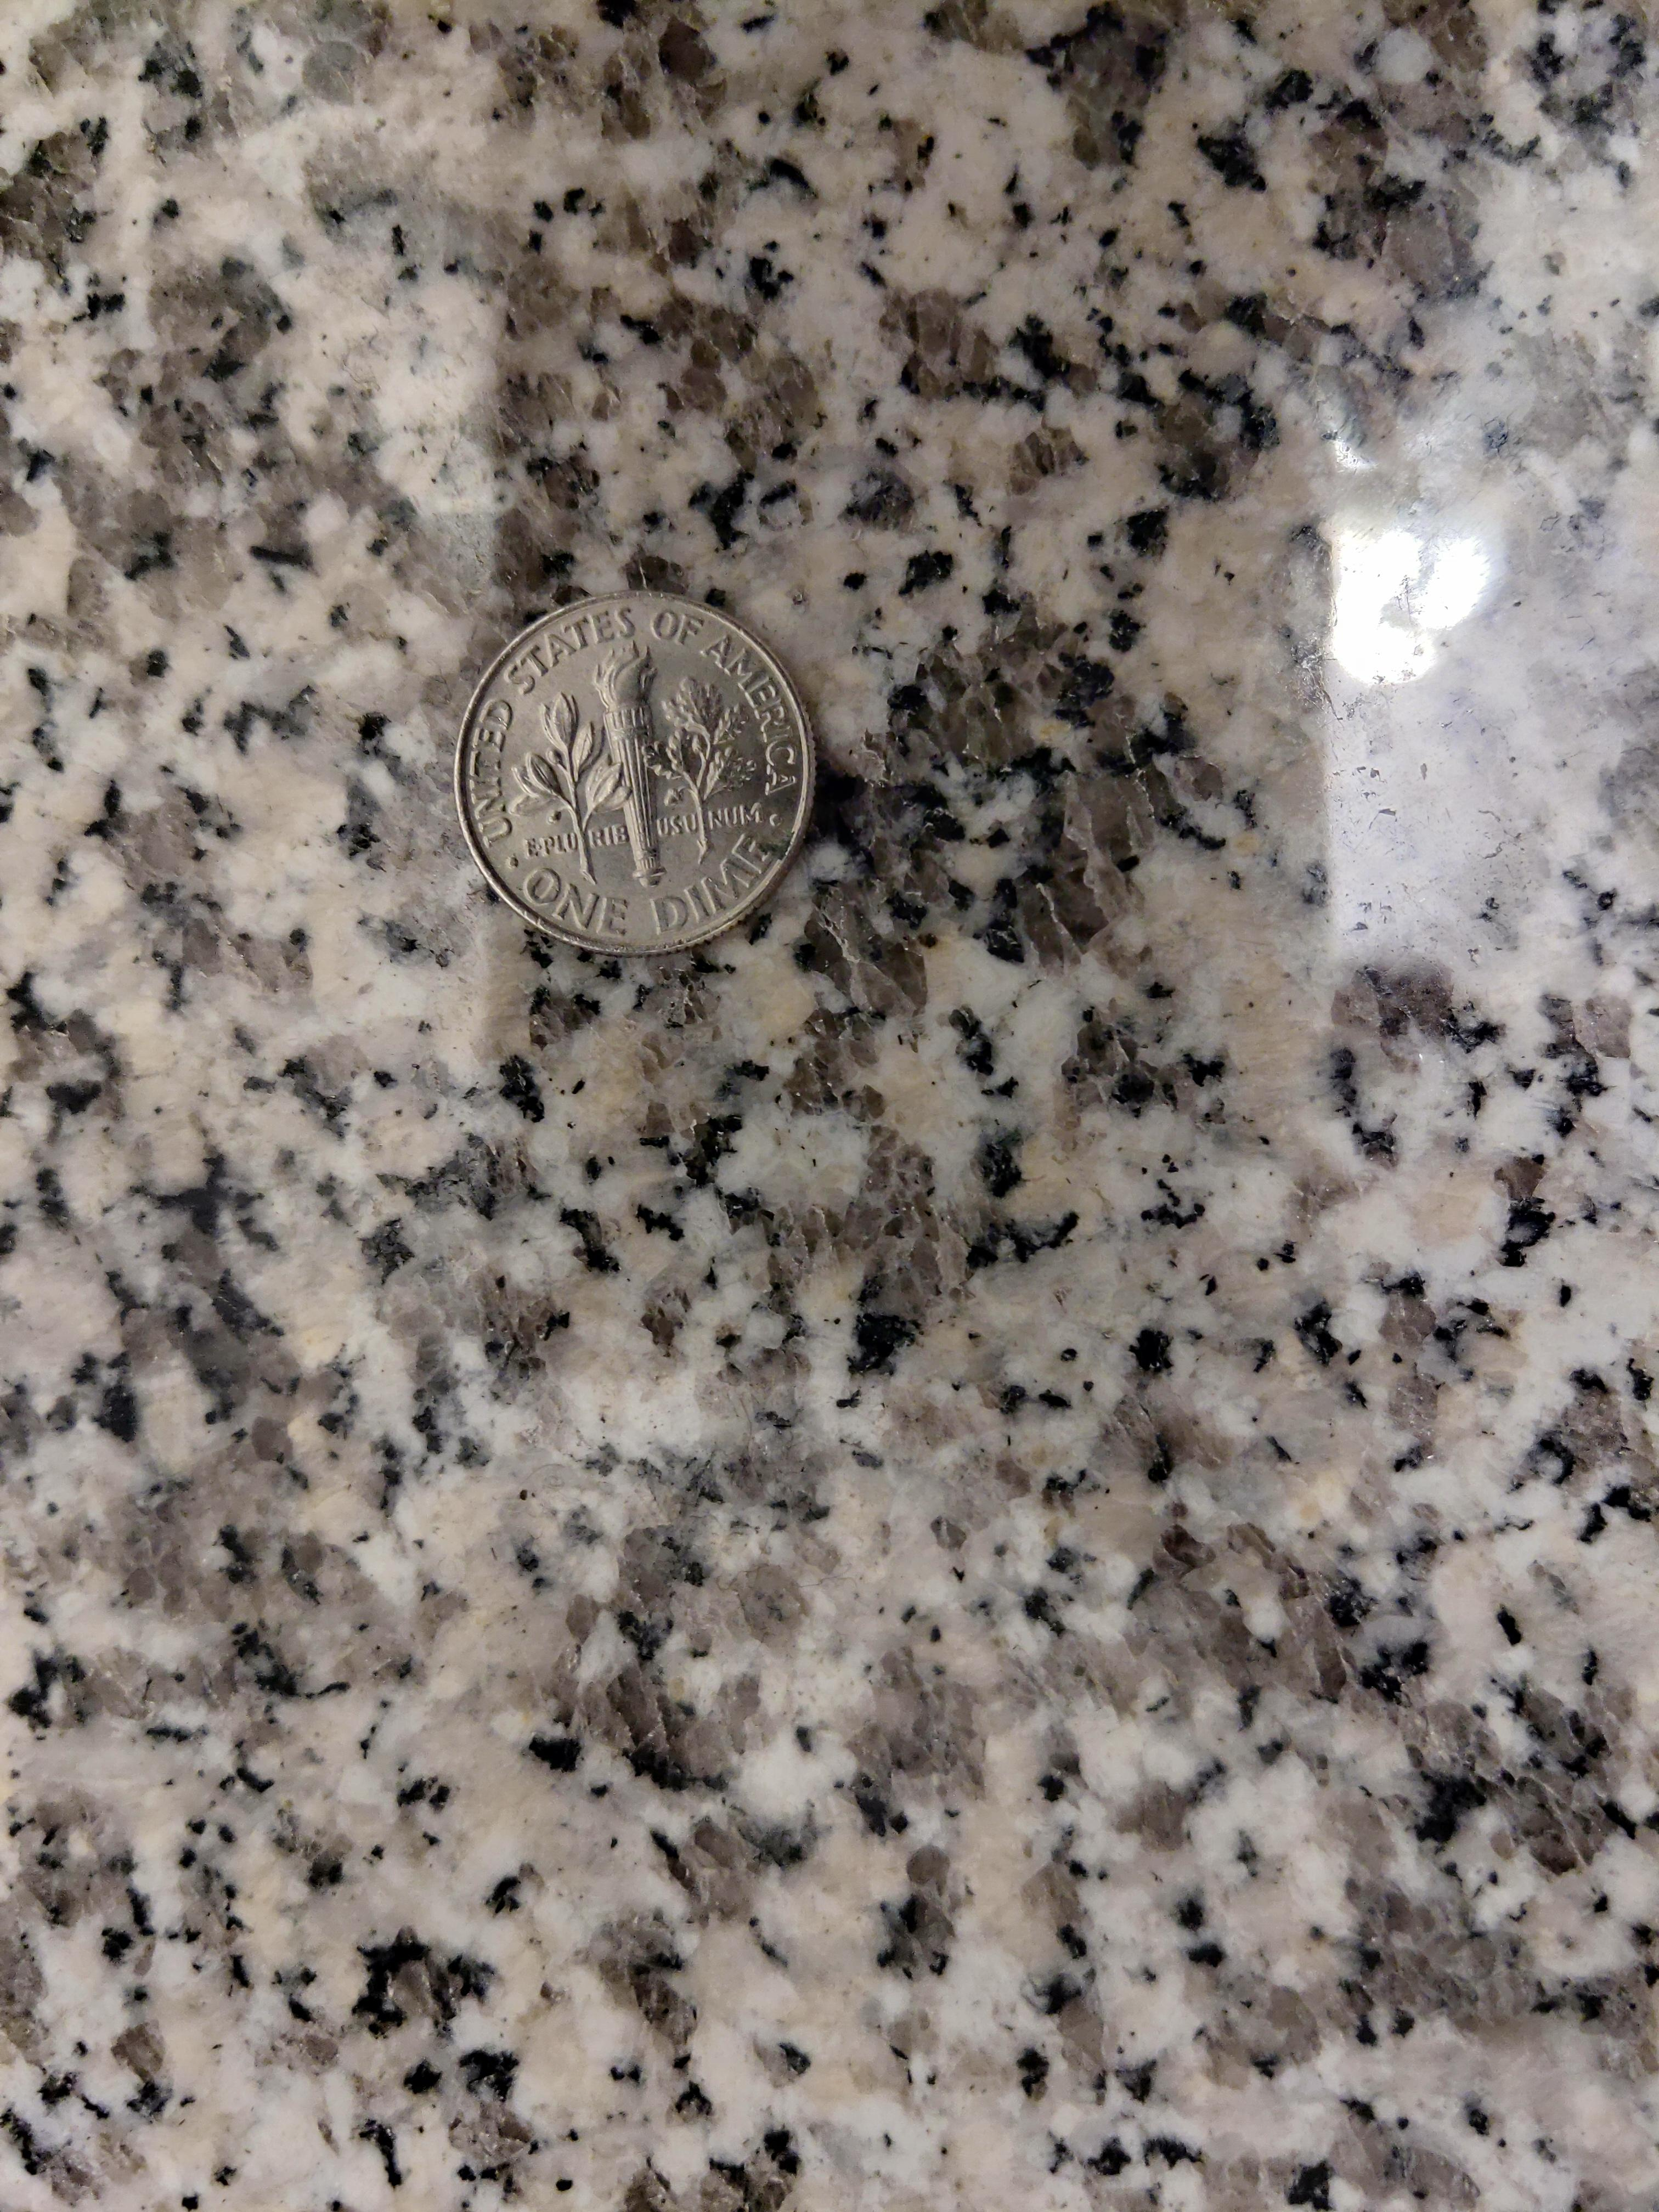Dime: (450, 587, 814, 956)
